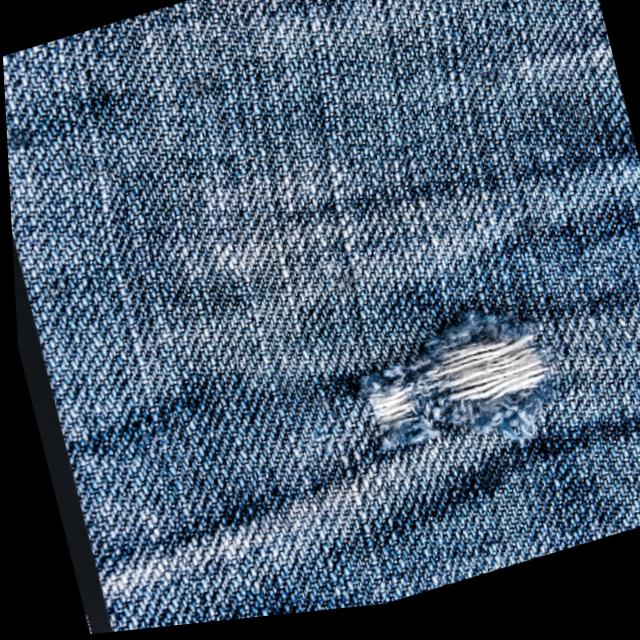Hole: (300, 287, 593, 514)
